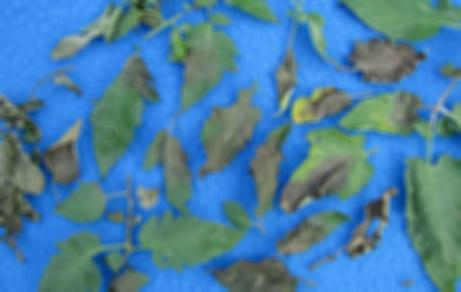Tomato leaf late blight: (281, 127, 380, 224), (398, 143, 461, 292), (88, 51, 160, 176), (137, 213, 262, 269), (176, 17, 242, 112), (198, 81, 264, 174), (244, 119, 299, 217), (149, 119, 200, 215), (273, 207, 362, 260), (341, 86, 427, 139), (216, 0, 282, 23)
